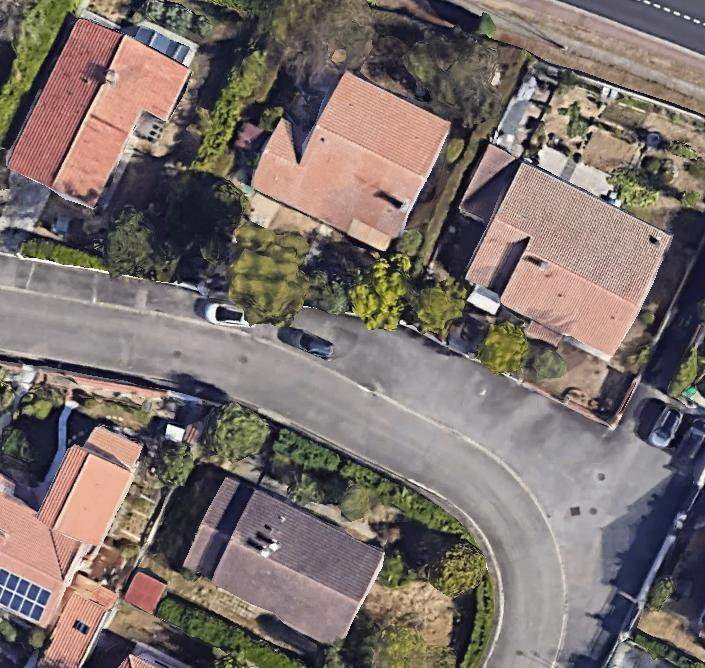maison: (420, 143, 676, 375), (247, 55, 453, 255), (3, 8, 194, 223), (178, 469, 388, 650), (0, 413, 144, 668)
